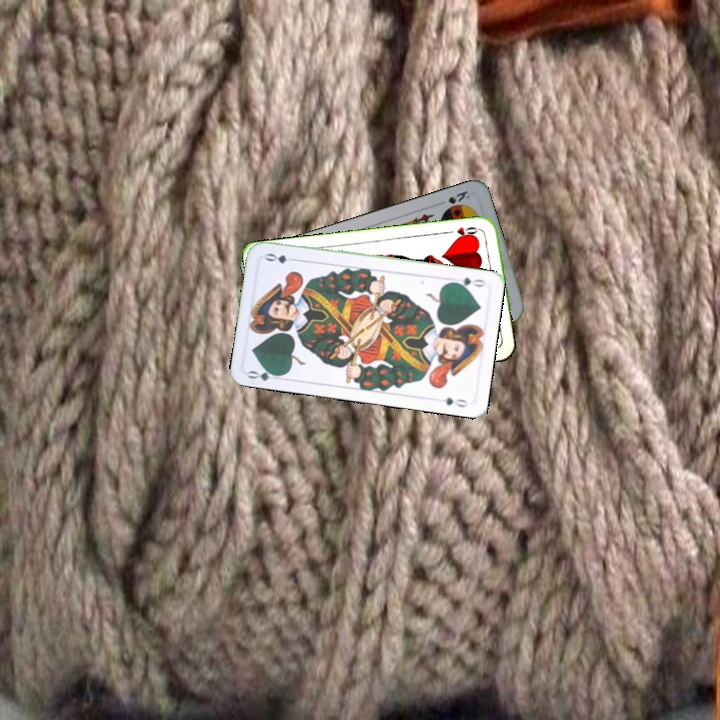GO: (244, 364, 285, 384), (447, 273, 488, 290)
HO: (444, 222, 485, 242)
SK: (444, 186, 472, 206)
